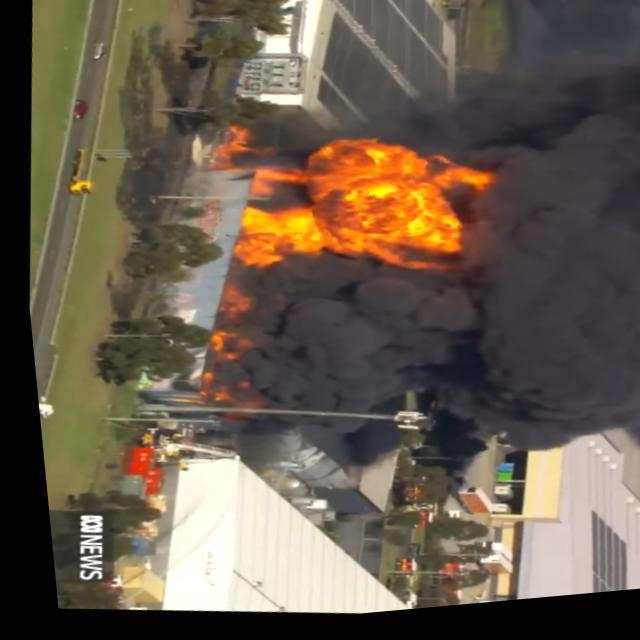fire: (218, 114, 512, 306), (188, 367, 260, 413), (200, 292, 248, 356)
